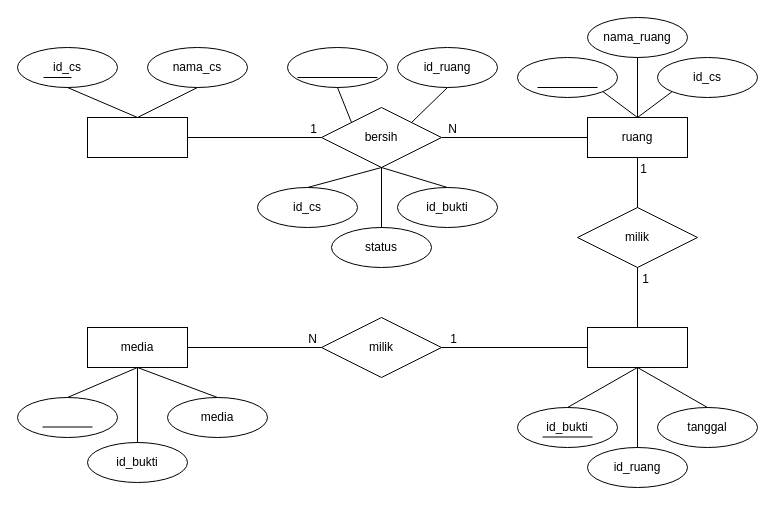
Some shapes in this 775 by 505 pixel diagram are drawn without their labels. The shapes that lost their labels are listed below. From the top down, each one's centre as x and y in pixels, then its label:
point (337, 67): id_pembersihan
point (567, 77): id_ruangan
point (137, 137): cs
point (637, 347): bukti_kebersihan
point (67, 417): id_media
